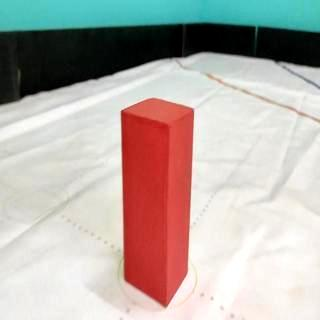redbox: (120, 96, 194, 308)
